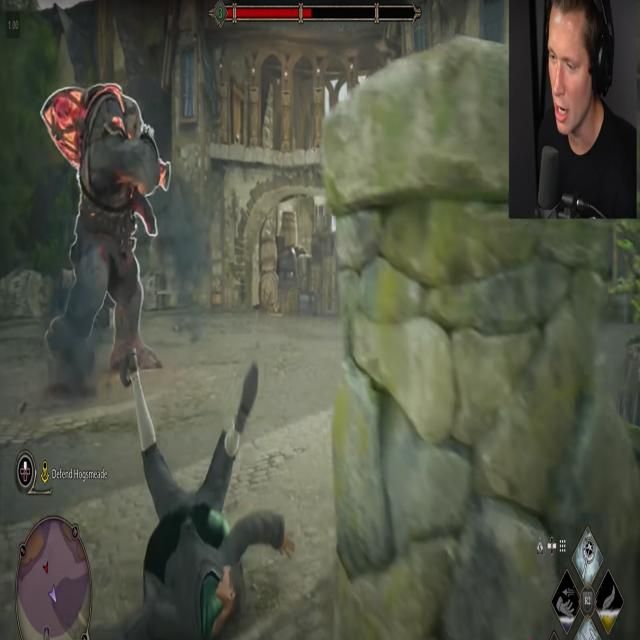compass: (42, 460, 48, 478)
